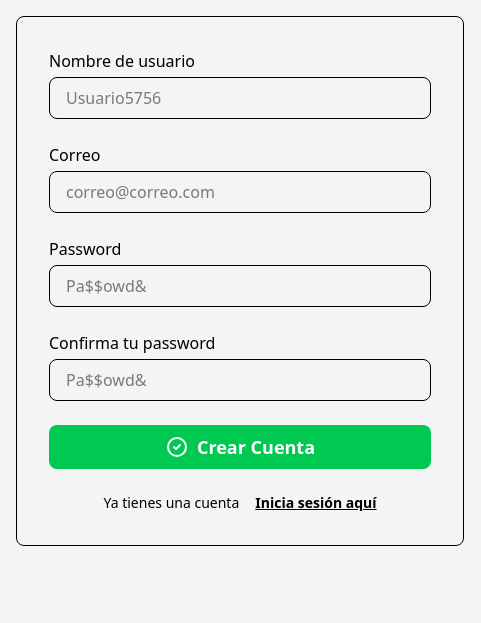
Form Signup Test › Validación › Debe de mosrtar error si las contraseñas no coinciden
Step 1. Type "passwTest" into the password field with test id "confirmPassword" → (240, 380), box 49,359 -> 431,401
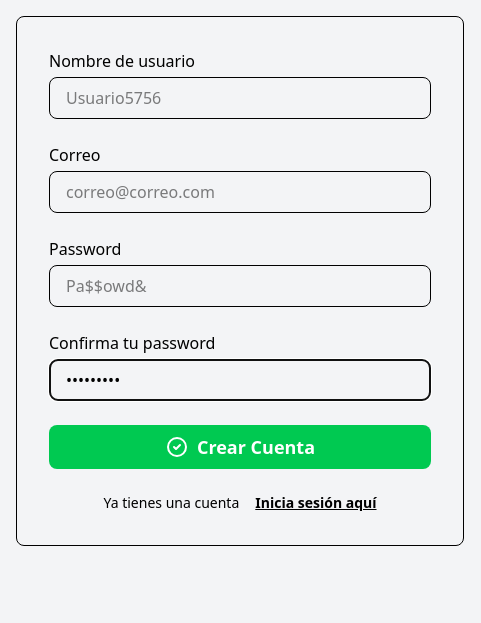
Step 2. Press Tab
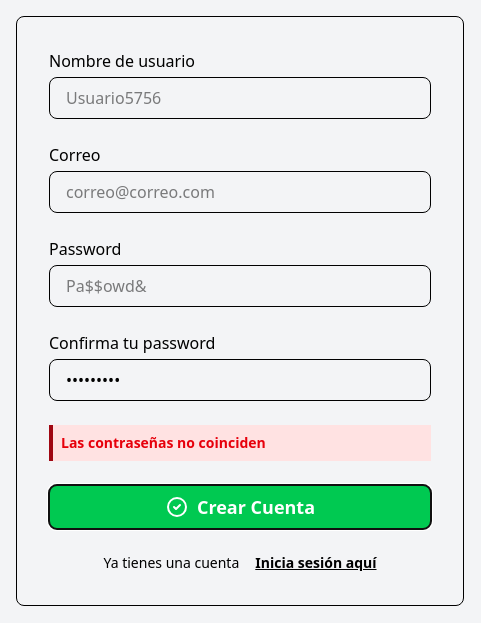
Result: the text "Las contraseñas no coinciden" is shown at 49,425 -> 431,461
